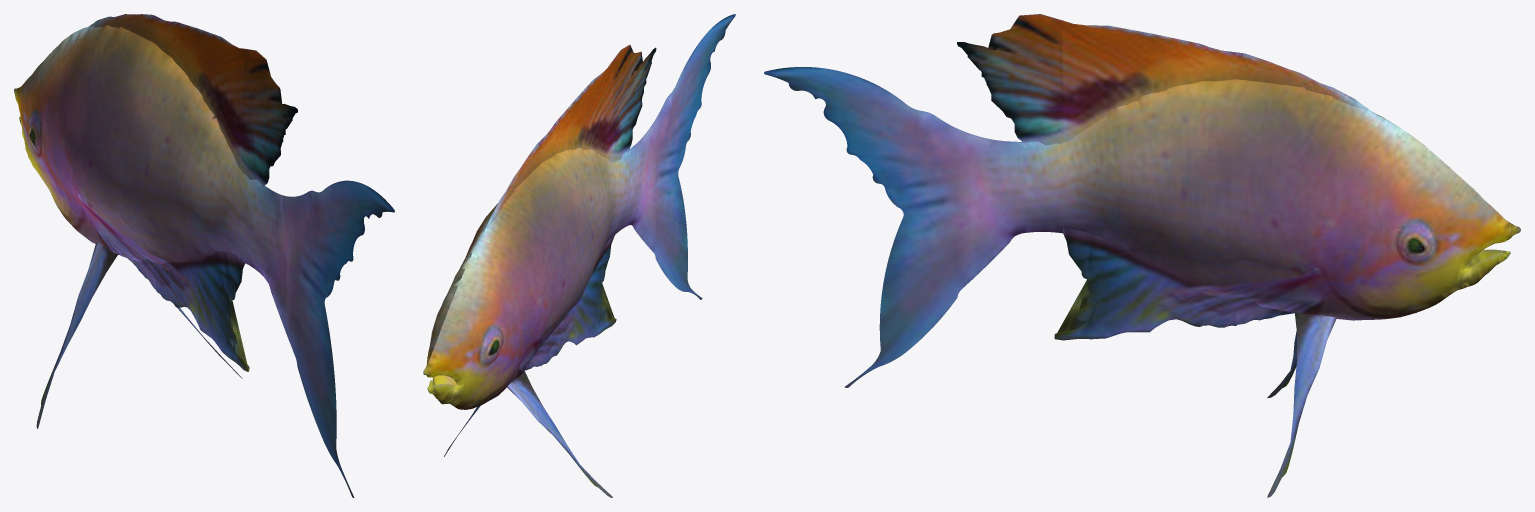
The model's file is fish1.fbx.
3 views of the same model, side by side, from view 1: azimuth 30°, elevation 25°; view 2: azimuth 150°, elevation 25°; view 3: azimuth 270°, elevation 25° (orthographic). The views are drawn at different scales.
Parts seen in each view (by area): view 1: Group2, Group4; view 2: Group2, Group4; view 3: Group2, Group3.
Boxes of the visible parts, x1,y1,x2,y2 form: Group2: (14, 14, 394, 497); Group4: (36, 242, 117, 428); Group2: (423, 14, 735, 409); Group4: (507, 371, 612, 497); Group2: (764, 14, 1520, 387); Group3: (1267, 312, 1336, 497).
Bounding box in the file's own units: 13 × 26.39 × 41.66.
